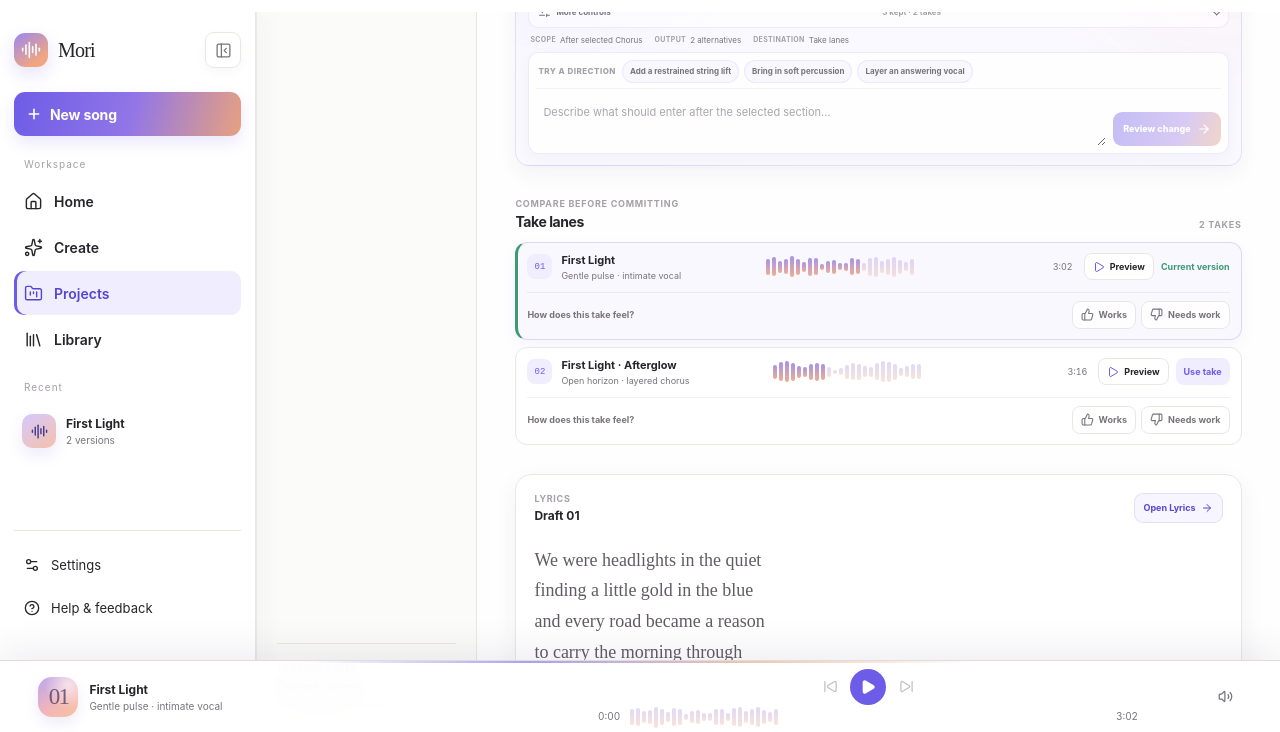
Mori studio page › rejects a mismatched Current Version confirmation
This screenshot has width=1280, height=732.
(page scrolled)
Click the button with aria-label "Use First Light · Afterglow as current": x=1203, y=372 x1=1176 y1=358 x2=1230 y2=385
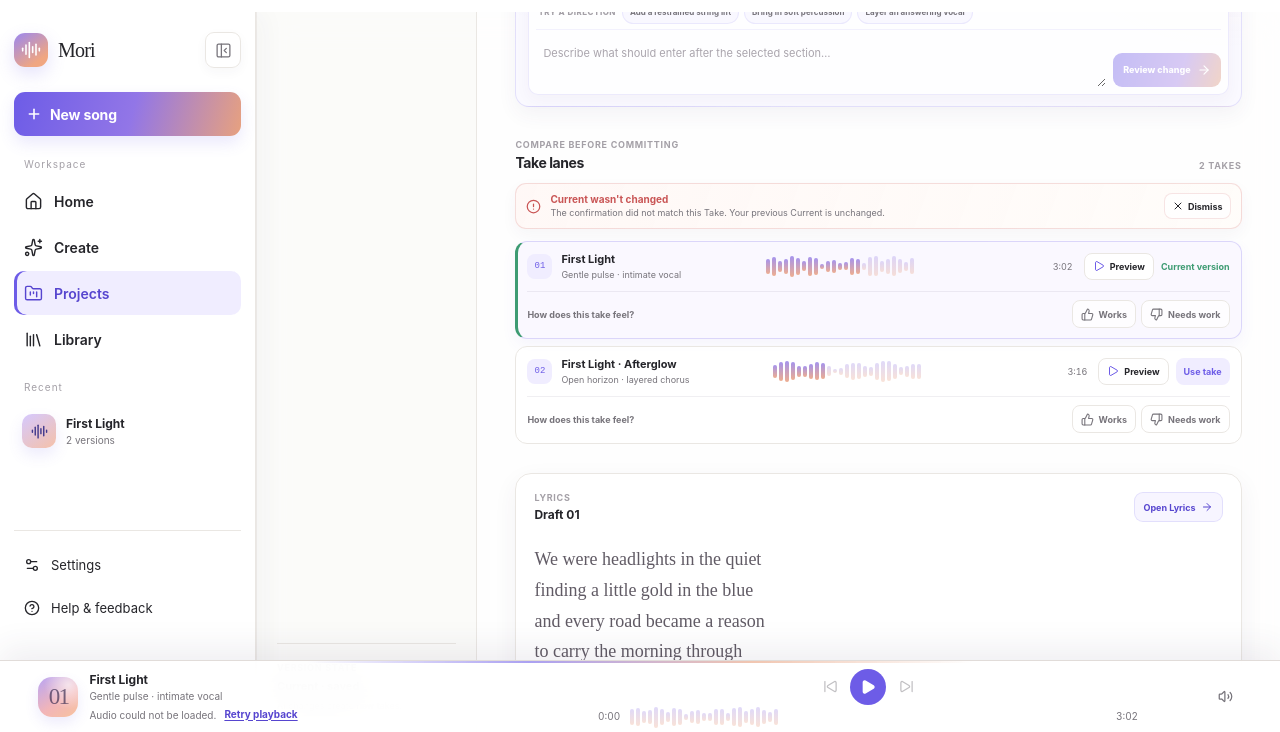
Check: the element named "Take 1: First Light" shows "Current version", box x1=1161 y1=261 x2=1230 y2=272
Check: the message that starts with "Current wasn't changed" shows "The confirmation did not match this Take. Your previous Current is unchanged.", box x1=550 y1=207 x2=885 y2=218
